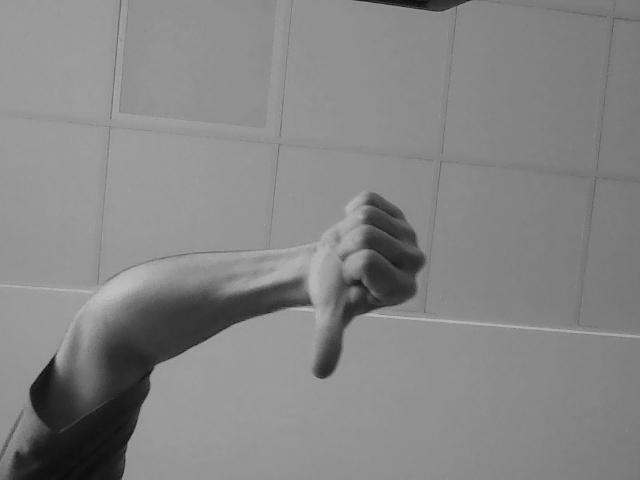bad: (283, 170, 449, 376)
